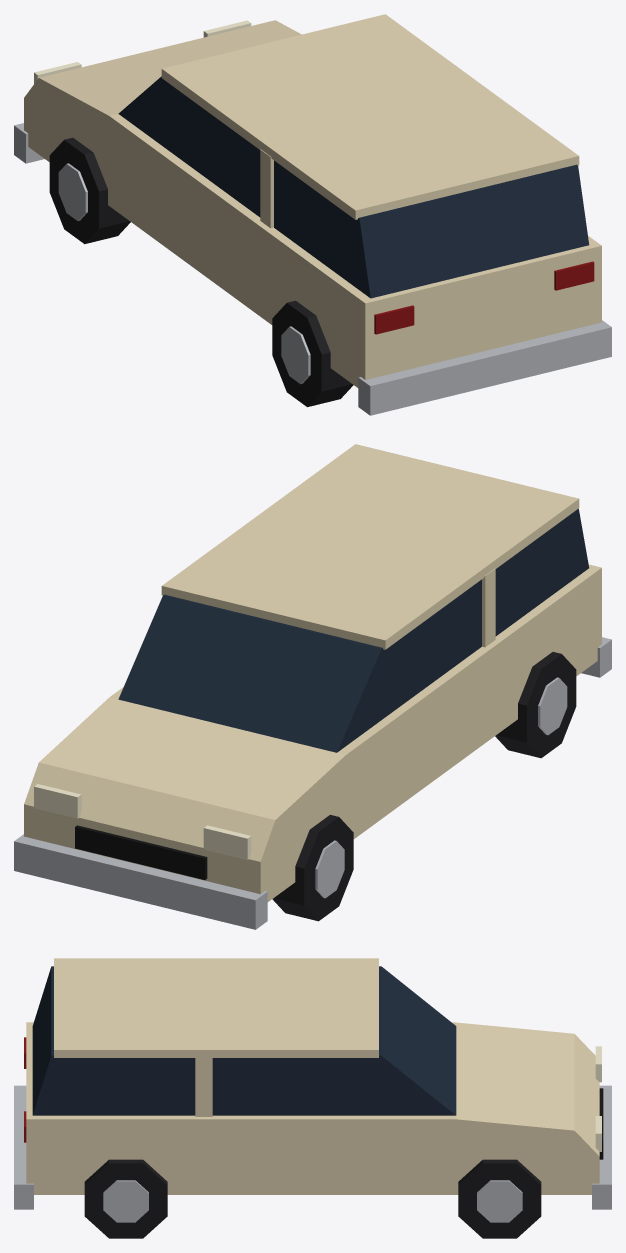
File: CarWagonCream.obj
3 views of the same model, one above another, from view 1: azimuth 30°, elevation 25°; view 2: azimuth 150°, elevation 25°; view 3: azimuth 270°, elevation 25° (orthographic). The views are drawn at different scales.
Visible parts, largest first — view 1: CarWagonCream; view 2: CarWagonCream; view 3: CarWagonCream.
Part boxes in pixels (left/top/right/bottom): CarWagonCream: left=14, top=14, right=611, bottom=415; CarWagonCream: left=14, top=444, right=611, bottom=929; CarWagonCream: left=14, top=958, right=611, bottom=1238.
Bounding box in the file's own units: 2.01 × 1.61 × 4.8.
1 material, 1 textured.
